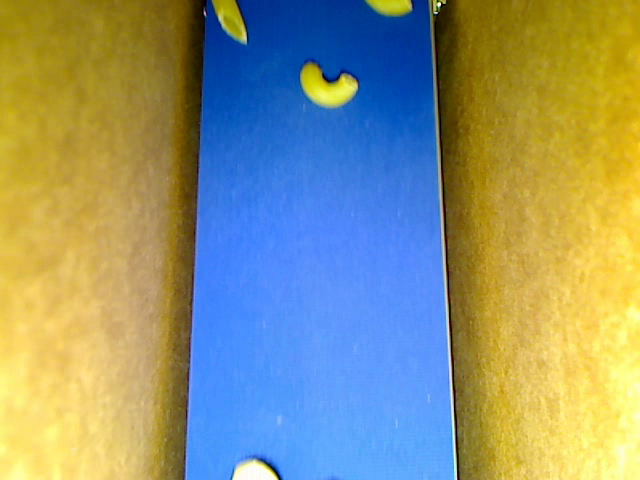elbow: (297, 61, 359, 110)
penne: (211, 1, 247, 44)
